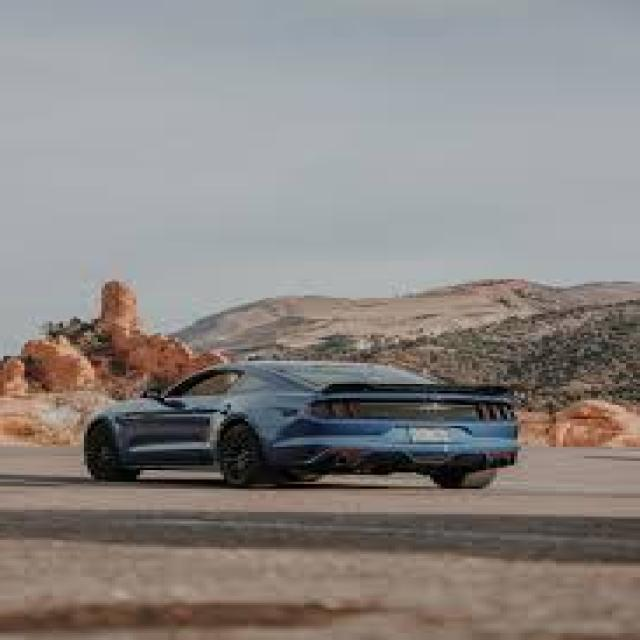car: (86, 363, 517, 485)
